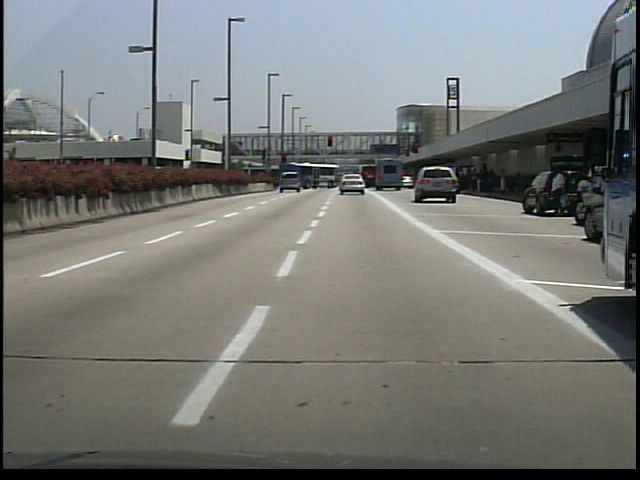person: (547, 168, 567, 217)
